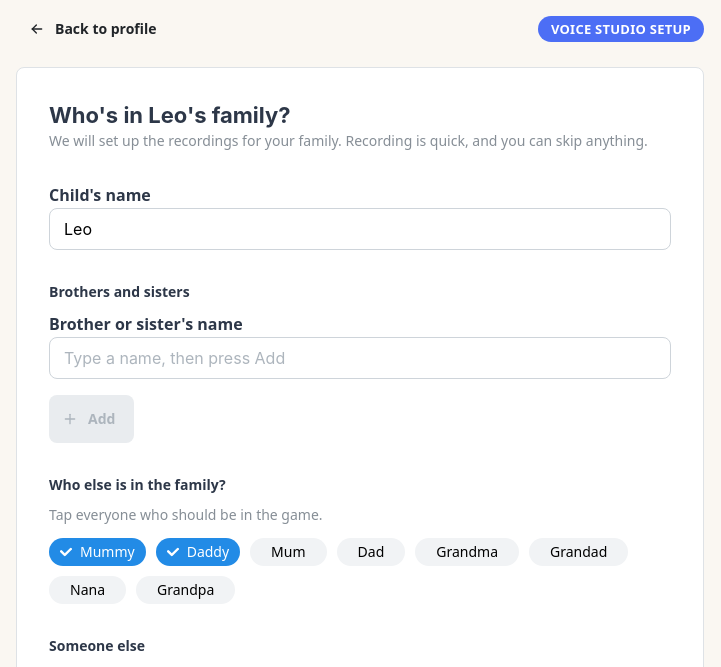
Test case: Voice studio › family step › adds a sibling with the Add button and shows it in the list
Expected: the heading "Who's in Leo's family?" is shown, [49,102,291,128]
In the field labelled "Brother or sister's name": [360, 358] box [49,337,671,379], type "Maya"
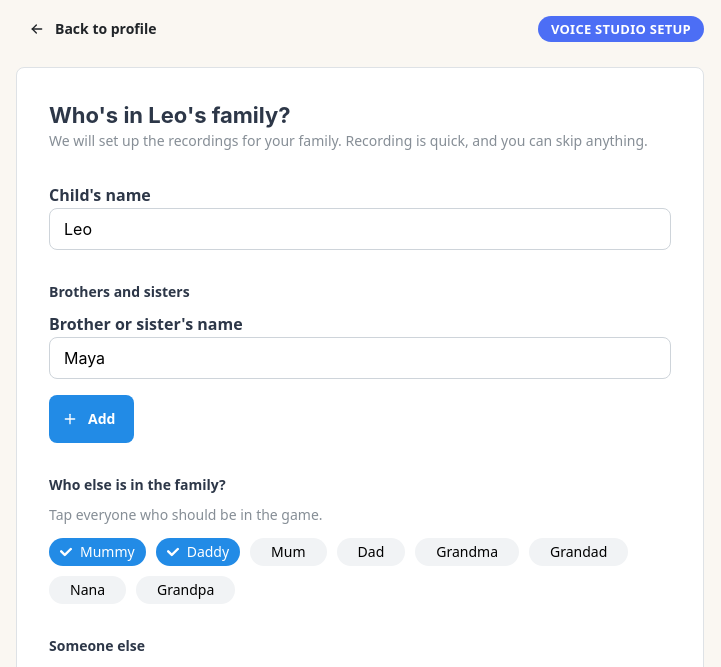
Click the button with test id "add-sibling": [92, 419] box [49,395,134,443]
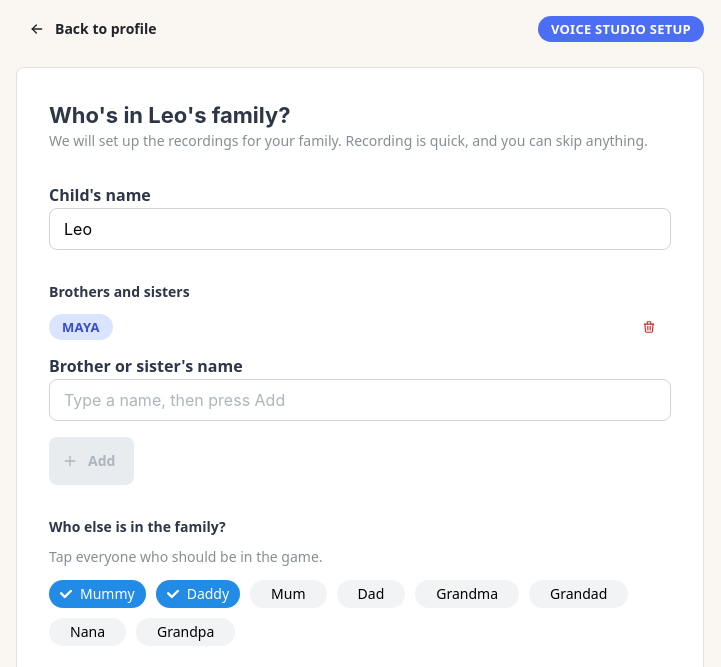
Now the text "Maya" is shown, box [62,315,100,339]
